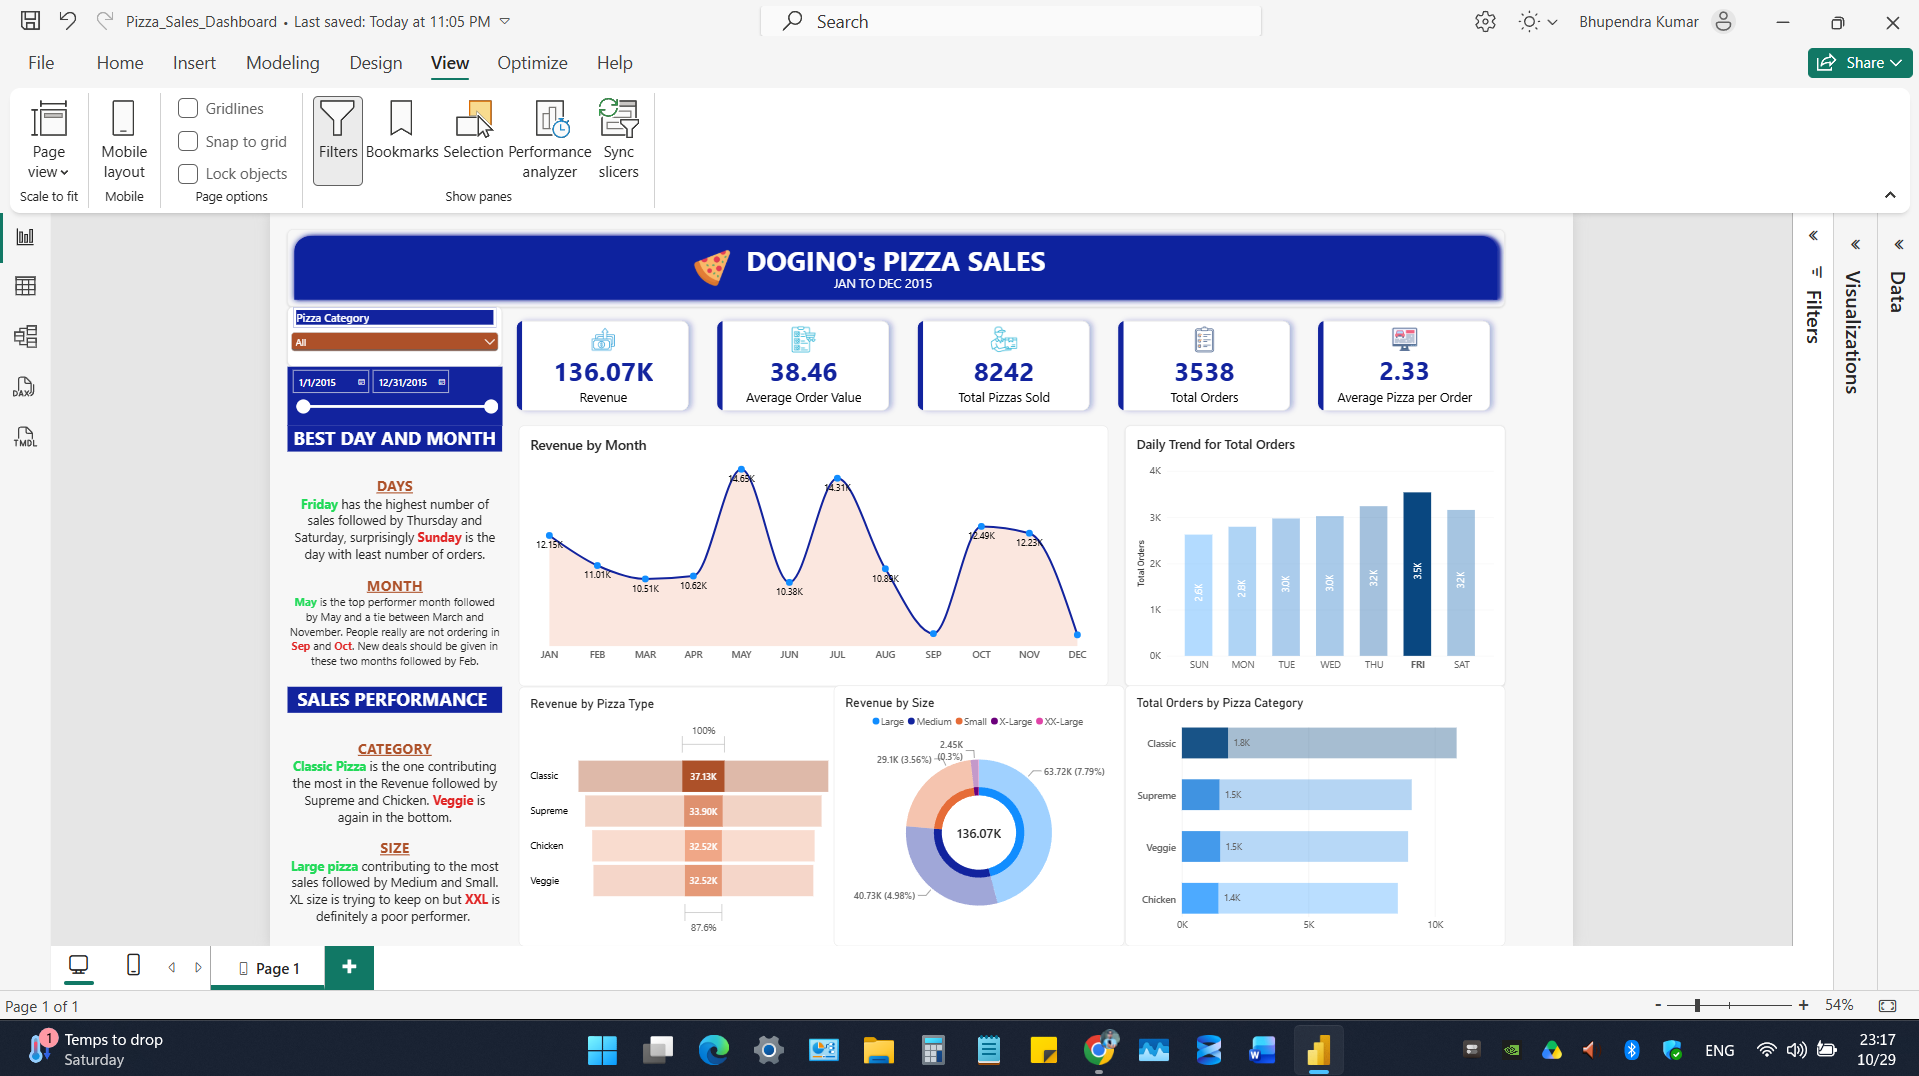

Layout of this report page (visuals, bound fields, positions):
{"tool":"powerbi","page":{"name":"Page 1","canvas":[1920,1080],"ordinal":0},"visuals":[{"type":"shape","box":[26.8,24.7,1790.7,113.2],"z":0},{"type":"cardVisual","fields":{"Data":["pizza_sales.Revenue","pizza_sales.Average Order Value","pizza_sales.Total Pizzas Sold","pizza_sales.Total_orders","pizza_sales.Average Pizza per Order"]},"box":[341.7,137.9,1475.8,175],"z":1000},{"type":"textbox","box":[830,90,154,38],"z":2000},{"type":"image","box":[491.9,53.5,319,55.6],"z":3000},{"type":"columnChart","title":"Daily Trend for Total Orders","fields":{"Category":["pizza_sales.Day"],"Y":["pizza_sales.Total Orders"]},"box":[1258,312,560,384],"z":4000},{"type":"stackedAreaChart","title":"Revenue by Month","fields":{"Category":["pizza_sales.Month Order"],"Y":["pizza_sales.Revenue"]},"box":[366,312,868,384],"z":5000},{"type":"funnel","title":"Revenue by Pizza Type","fields":{"Category":["pizza_sales.pizza_category"],"Y":["pizza_sales.Revenue"]},"box":[366,698,478,382],"z":6000},{"type":"donutChart","title":"Revenue by Size","fields":{"Category":["pizza_sales.pizza_size"],"Y":["pizza_sales.Revenue"]},"box":[830,696,428,384],"z":7000},{"type":"barChart","title":"Total Orders by Pizza Category","fields":{"Category":["pizza_sales.pizza_category"],"Y":["pizza_sales.Total Orders"]},"box":[1258,696,560,384],"z":8000},{"type":"textbox","box":[26,698,316,38],"z":9000},{"type":"textbox","box":[26,312,316,38],"z":10000},{"type":"textbox","box":[26,736,316,344],"z":11000},{"type":"textbox","box":[26,350,316,346],"z":12000},{"type":"slicer","fields":{"Values":["pizza_sales.pizza_category"]},"box":[26,138,316,88],"z":13000},{"type":"slicer","fields":{"Values":["pizza_sales.order_date"]},"box":[26,226,316,86],"z":14000}]}

Visuals, with their boxes on the page's 1920x1080 design canvas (x1, y1, x2, y2). These are canvas units, not pixel positions in the 1919x1076 screenshot, which may show the page scaled, cropped or inside an application window:
shape: region(27, 25, 1818, 138)
cardVisual - pizza_sales.Revenue x pizza_sales.Average Order Value: region(342, 138, 1818, 313)
textbox: region(830, 90, 984, 128)
image: region(492, 54, 811, 109)
"Daily Trend for Total Orders" columnChart: region(1258, 312, 1818, 696)
"Revenue by Month" stackedAreaChart: region(366, 312, 1234, 696)
"Revenue by Pizza Type" funnel: region(366, 698, 844, 1080)
"Revenue by Size" donutChart: region(830, 696, 1258, 1080)
"Total Orders by Pizza Category" barChart: region(1258, 696, 1818, 1080)
textbox: region(26, 698, 342, 736)
textbox: region(26, 312, 342, 350)
textbox: region(26, 736, 342, 1080)
textbox: region(26, 350, 342, 696)
slicer - pizza_sales.pizza_category: region(26, 138, 342, 226)
slicer - pizza_sales.order_date: region(26, 226, 342, 312)
